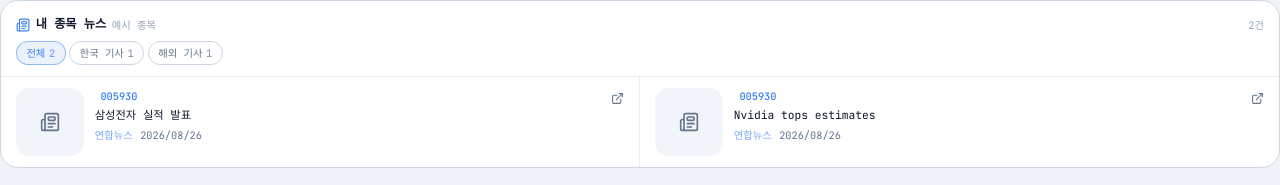
화면 › 칩을 누르면 그쪽 기사만 남는다
This screenshot has width=1280, height=185.
Check: the text "삼성전자 실적 발표" is shown, box [95,108,191,122]
Check: the text "Nvidia tops estimates" is shown, box [734,108,876,122]
Click the button "한국 기사1" at coordinates (107, 53), box [69,41,144,65]
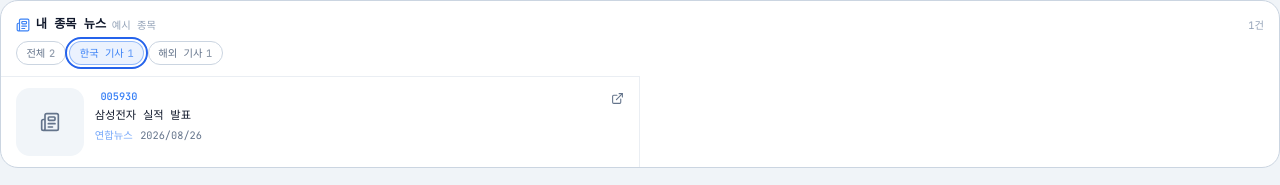
Check: the text "삼성전자 실적 발표" is shown, box [95,108,191,122]
Check: the link "Nvidia tops estimates" is gone
Click the button "해외 기사1" at coordinates (185, 53), box [148,41,223,65]
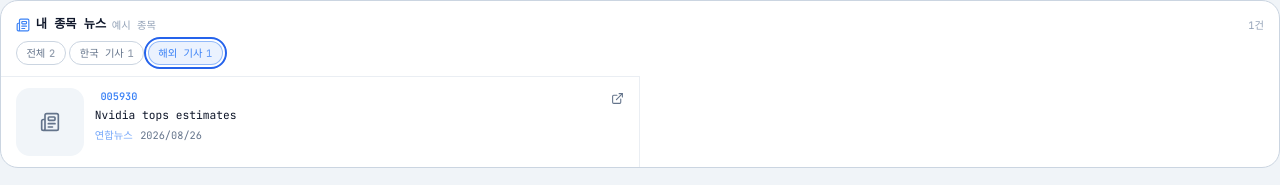
Check: the link "삼성전자 실적 발표" is gone
Check: the text "Nvidia tops estimates" is shown, box [95,108,237,122]
